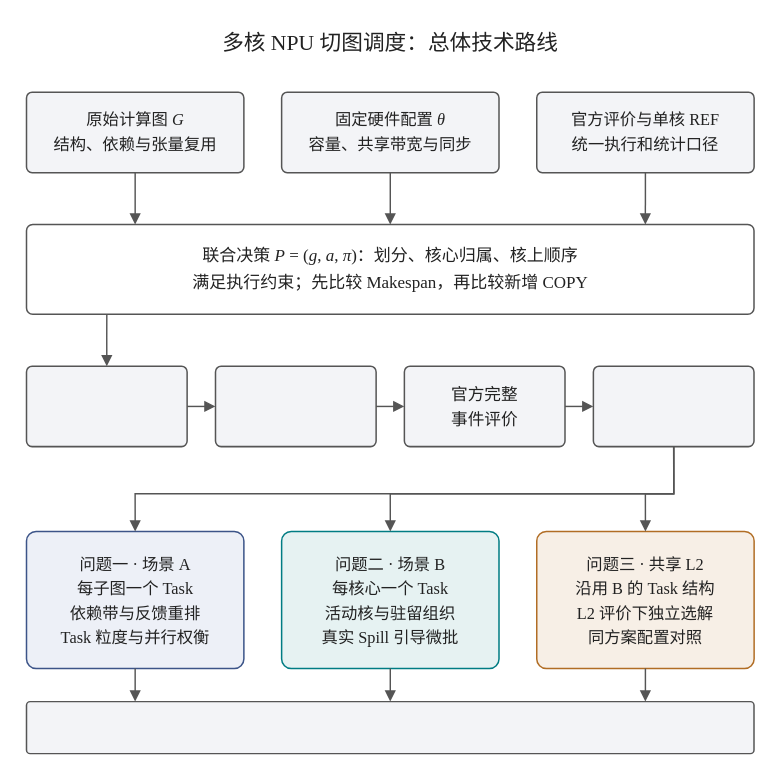
Image size: 780x776. Some labels were removed from this diagram. Here are the shapes that lost their labels. From the top down, the centre of each, then its label:
[106,406]: 结构化 候选生成
[295,406]: 结构检查与 有效下界筛选
[673,406]: 字典序保留 已得可行解
[389,727]: 验证与交付：逐核曲线、逐例表、失败与预算记录、可复现程序
